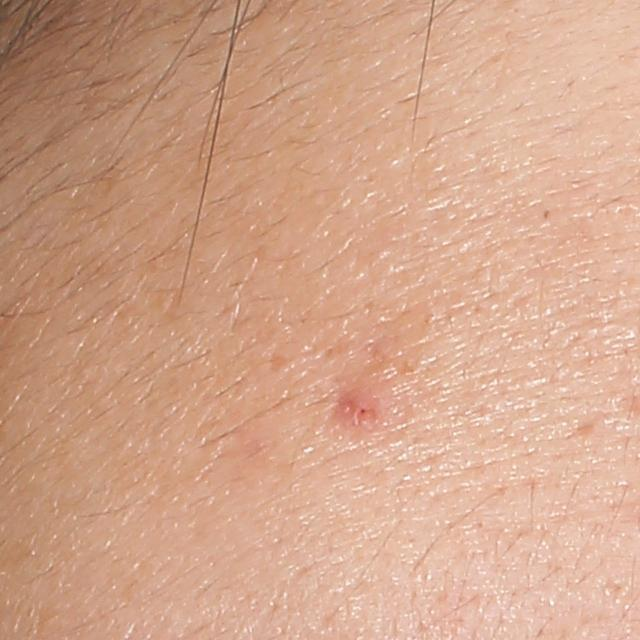papule: (339, 388, 381, 426)
